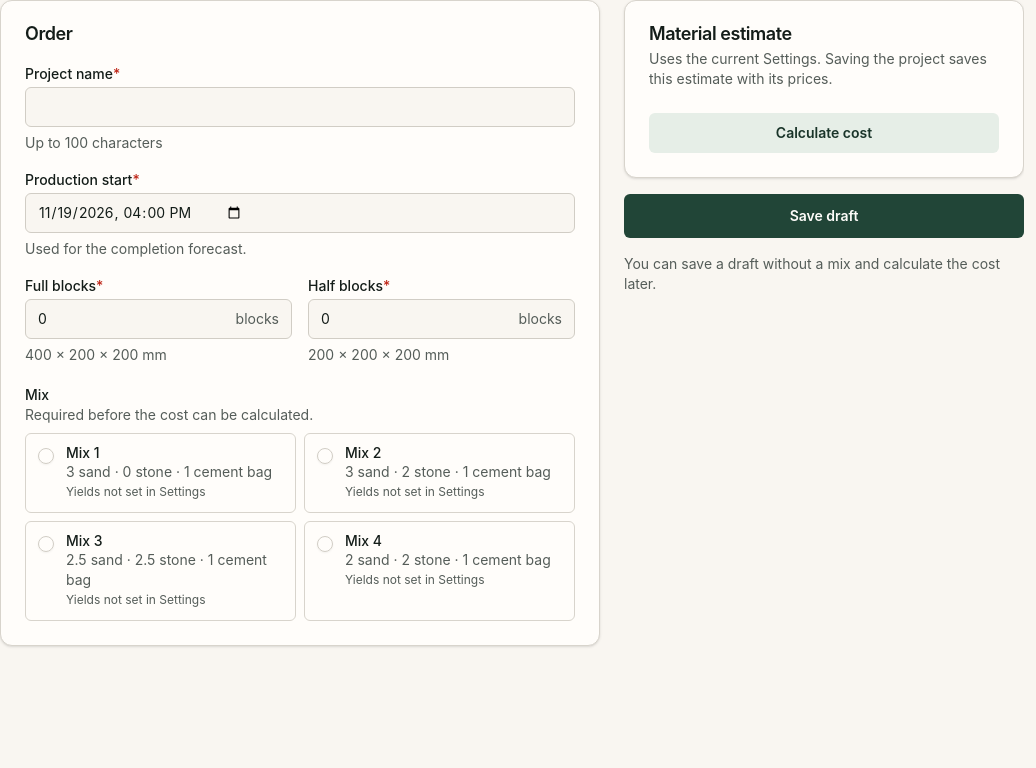
ProjectForm › SC02: lists missing settings instead of a cost
The image size is (1036, 768).
Expected: the field labelled "Project name*" is shown, [26, 88, 574, 126]
Replace the text in the field labelled "Full blocks*" with "10" at (131, 319), box [26, 300, 236, 338]
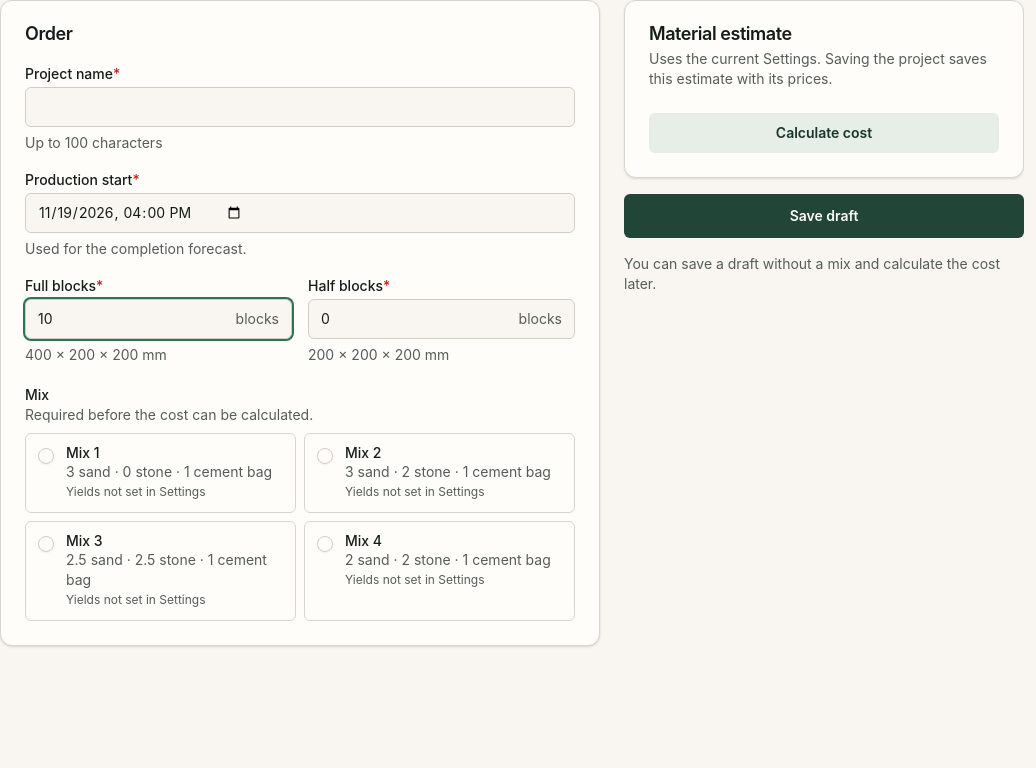
Click the radio button named "Mix 2" next to "Mix 2".
click(325, 456)  # box [317, 448, 333, 464]
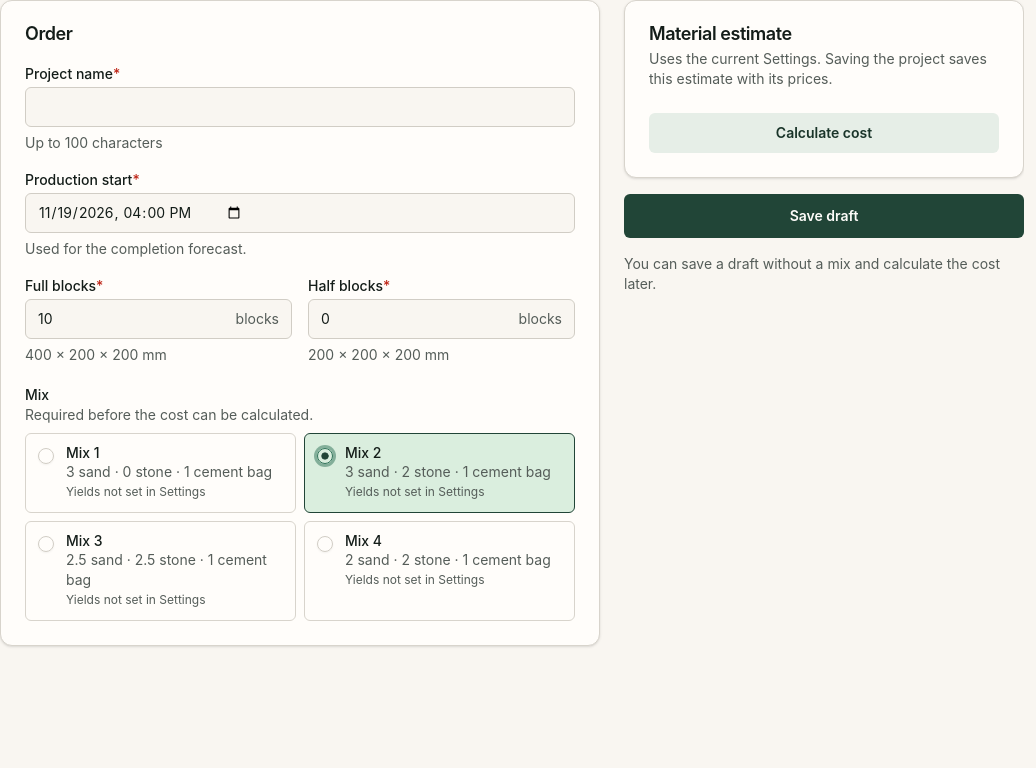
Click the button "Calculate cost".
click(824, 133)  # box [649, 113, 999, 153]
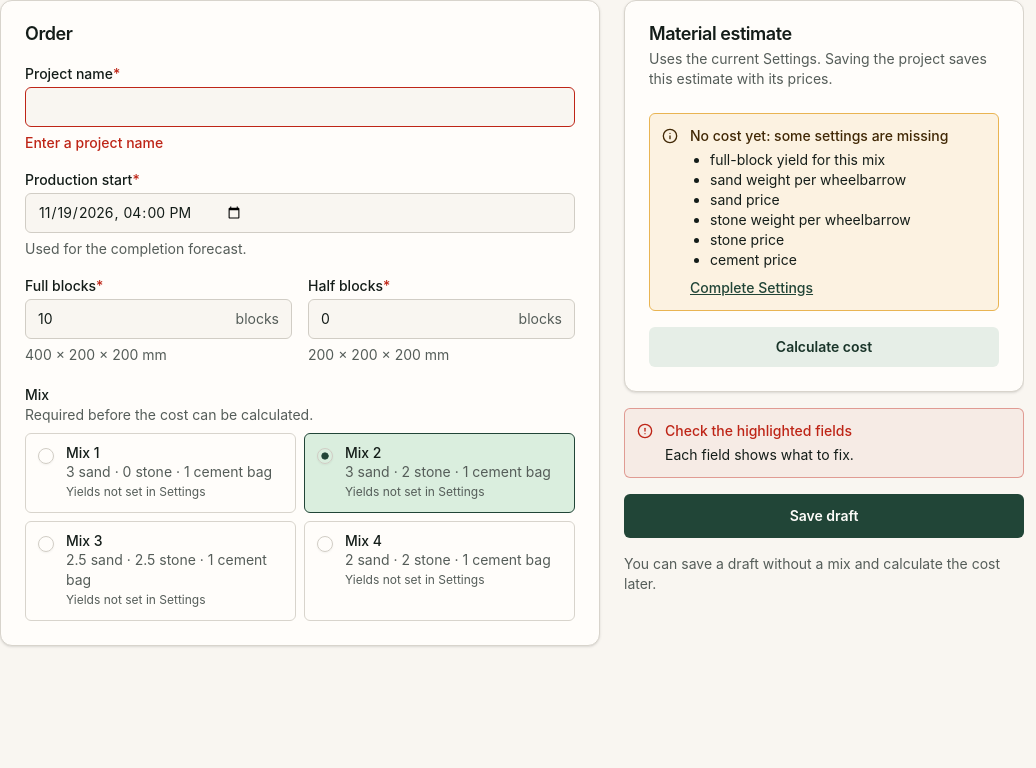
Now the text "No cost yet: some settings are missing" is shown, box [690, 126, 948, 146]
Now the list item "sand price" is shown, box [710, 191, 780, 208]
